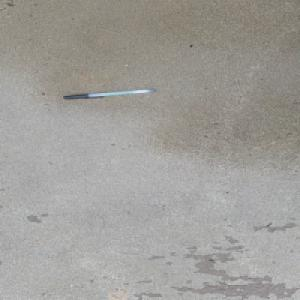Pen: (61, 88, 155, 101)
